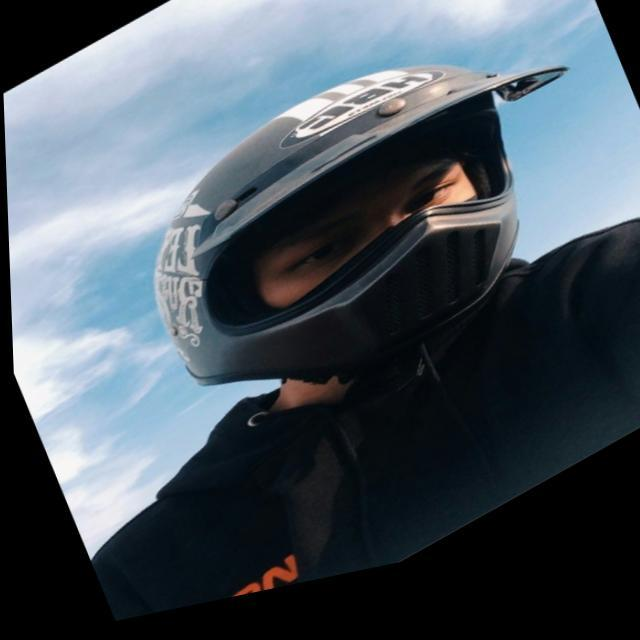Helmet: (149, 59, 564, 391)
